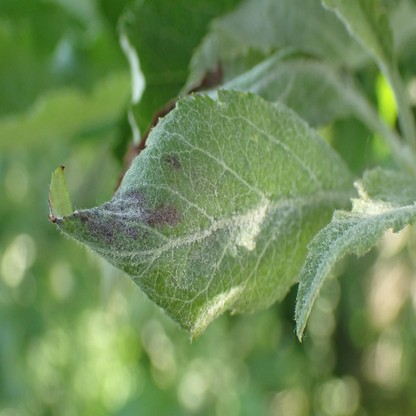powdery_mildew: (48, 90, 367, 336), (292, 182, 416, 345)
